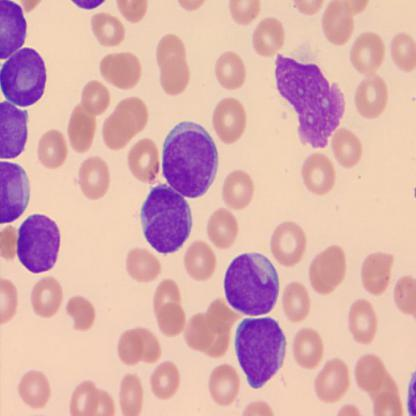Blast: (158, 120, 221, 200), (232, 312, 290, 391), (139, 179, 194, 257), (221, 249, 280, 318), (0, 44, 49, 110), (15, 212, 63, 274)
